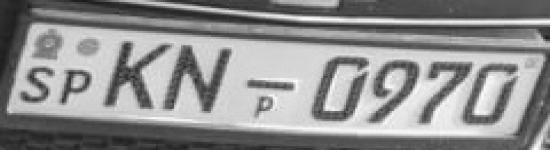-: (249, 77, 297, 94)
0: (305, 52, 370, 126), (471, 58, 522, 127)
7: (422, 55, 471, 126)
9: (368, 55, 422, 126)
K: (103, 37, 172, 113)
N: (171, 39, 240, 114)
P: (59, 66, 97, 112)
S: (19, 62, 59, 108)
